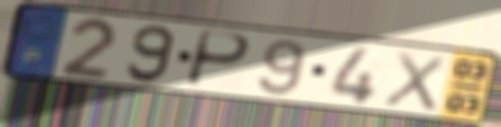2: (60, 15, 121, 82)
4: (328, 45, 379, 106)
9: (254, 37, 311, 98), (125, 24, 179, 84)
P: (182, 27, 254, 90)
X: (379, 48, 449, 114)
